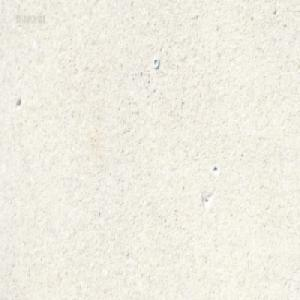Washer: (152, 56, 159, 68)
